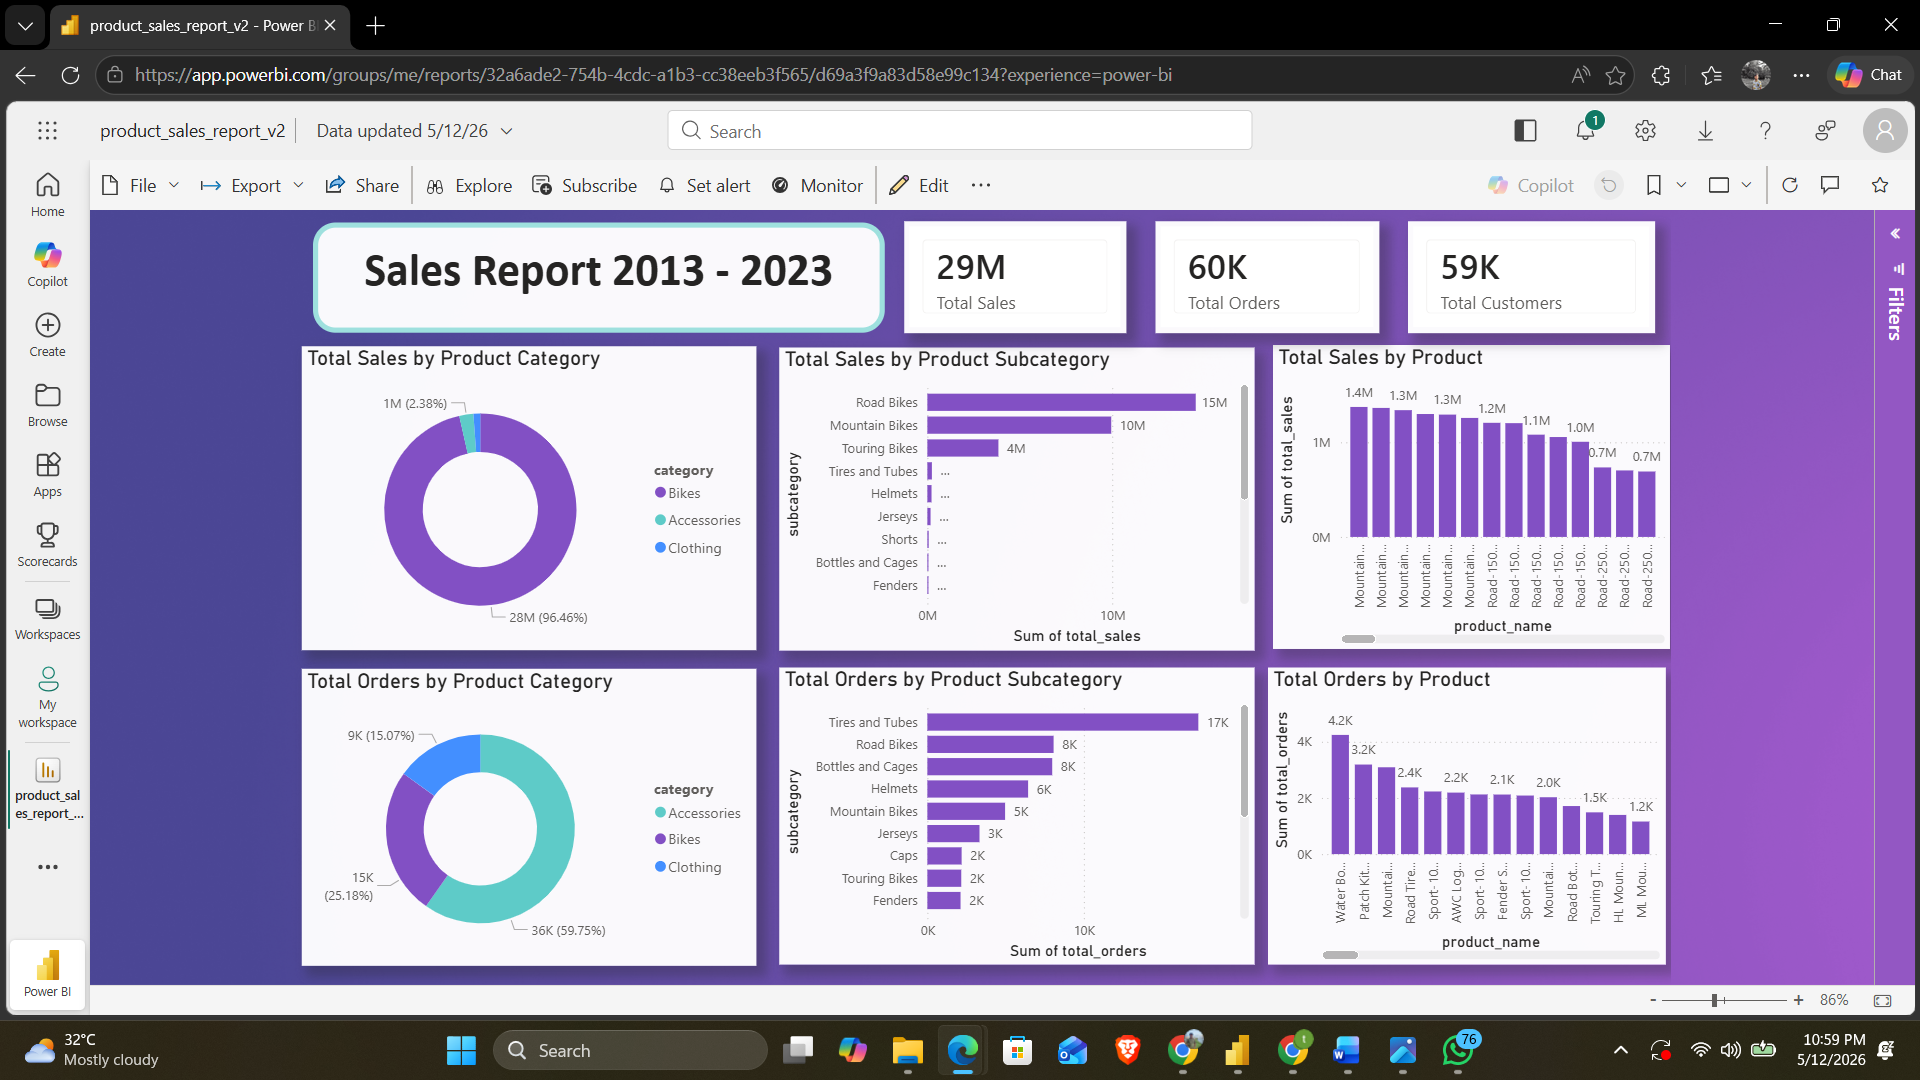

What the dashboard file says about the page in this screenshot:
{"tool":"powerbi","page":{"name":"Page 1","canvas":[1280,720],"ordinal":0},"visuals":[{"type":"donutChart","title":"Total Sales by Product Category","fields":{"Category":["gold report_products.category"],"Y":["Sum(gold report_products.total_sales)"]},"box":[8.4,126.7,422.3,282.3],"z":0},{"type":"clusteredBarChart","title":"Total Sales by Product Subcategory","fields":{"Category":["gold report_products.subcategory"],"Y":["Sum(gold report_products.total_sales)"]},"box":[451.2,127.2,441.4,281.3],"z":1000},{"type":"columnChart","title":"Total Sales by Product","fields":{"Category":["gold report_products.product_name"],"Y":["Sum(gold report_products.total_sales)"]},"box":[910.9,125.5,369.2,282.3],"z":2000},{"type":"cardVisual","fields":{"Data":["Sum(gold report_products.total_sales)"]},"box":[567.4,11,206.7,103.9],"z":3000},{"type":"cardVisual","fields":{"Data":["Sum(gold report_products.total_orders)"]},"box":[801,11,207.9,103.9],"z":4000},{"type":"donutChart","title":"Total Orders by Product Category","fields":{"Category":["gold report_products.category"],"Y":["Sum(gold report_products.total_orders)"]},"box":[8.4,425.9,422.3,276.3],"z":5000},{"type":"clusteredBarChart","title":"Total Orders by Product Subcategory","fields":{"Category":["gold report_products.subcategory"],"Y":["Sum(gold report_products.total_orders)"]},"box":[451.2,425.5,441.4,276.4],"z":6000},{"type":"columnChart","title":"Total Orders by Product","fields":{"Y":["Sum(gold report_products.total_orders)"],"Category":["gold report_products.product_name"]},"box":[906.1,425.5,369.3,276.4],"z":7000},{"type":"cardVisual","fields":{"Data":["Sum(gold report_products.total_customers)"]},"box":[1035.7,11,229.9,103.9],"z":8000},{"type":"textbox","box":[18.1,12.1,530.8,102.5],"z":9000}]}

Visuals, with their boxes on the page's 1280x720 design canvas (x1, y1, x2, y2). These are canvas units, not pixel positions in the 1920x1080 screenshot, which may show the page scaled, cropped or inside an application window:
"Total Sales by Product Category" donutChart: 8:127:431:409
"Total Sales by Product Subcategory" clusteredBarChart: 451:127:893:408
"Total Sales by Product" columnChart: 911:126:1280:408
cardVisual - Sum(gold report_products.total_sales): 567:11:774:115
cardVisual - Sum(gold report_products.total_orders): 801:11:1009:115
"Total Orders by Product Category" donutChart: 8:426:431:702
"Total Orders by Product Subcategory" clusteredBarChart: 451:426:893:702
"Total Orders by Product" columnChart: 906:426:1275:702
cardVisual - Sum(gold report_products.total_customers): 1036:11:1266:115
textbox: 18:12:549:115
